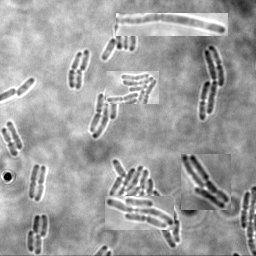Dividing: (116, 13, 228, 36), (67, 52, 81, 89), (1, 128, 18, 157), (34, 166, 47, 202), (28, 164, 39, 200), (239, 192, 249, 229)
Microcolony: (109, 158, 180, 249), (181, 154, 231, 210), (105, 196, 174, 230), (88, 76, 119, 139), (199, 45, 224, 121), (106, 71, 159, 104), (101, 18, 136, 61), (27, 214, 48, 255)
Rod: (5, 121, 23, 150), (16, 78, 34, 99), (79, 50, 89, 72), (73, 69, 82, 90)
